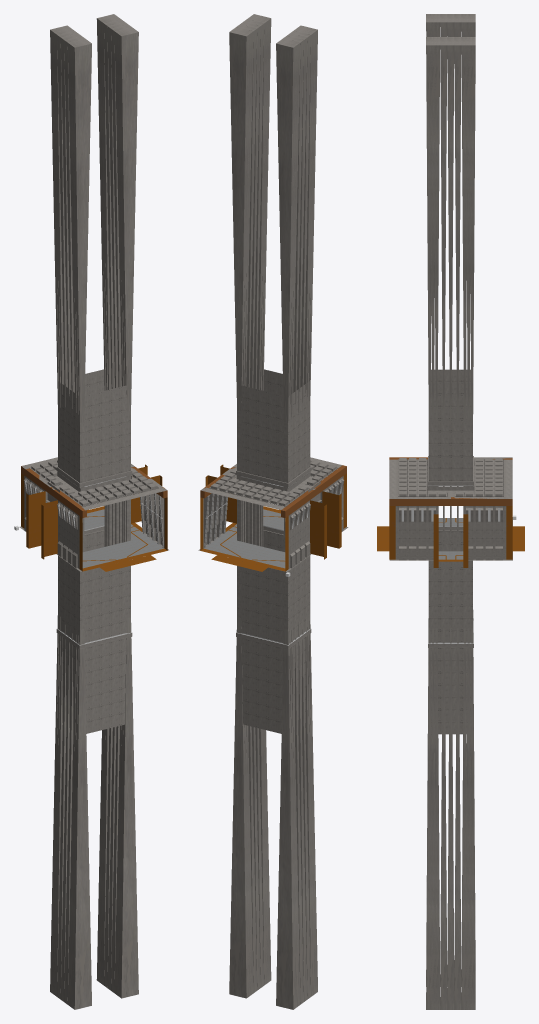
The model's file is Hall.fbx.
3 renders of one model, left to right at view 1: azimuth 30°, elevation 25°; view 2: azimuth 150°, elevation 25°; view 3: azimuth 270°, elevation 25°, orthographic.
Visible parts, largest first — view 1: Colomns.012|Cube.008|Dupli|, Colomns.025|Cube.008|Dupli|, Стены в дыре инс.001|Cube.049|Dupli|, Cube.049, Стены в дыре инс|Cube.049|Dupli|, Colomns.006|Cube.008|Dupli|, Colomns.008|Cube.008|Dupli|, Colomns.004|Cube.008|Dupli|, Colomns.002|Cube.008|Dupli|, Colomns.019|Cube.008|Dupli|, Colomns.017|Cube.008|Dupli|, Colomns.021|Cube.008|Dupli| (+20 smaller); view 2: Colomns|Cube.008|Dupli|, Colomns.013|Cube.008|Dupli|, Стены в дыре инс.001|Cube.051|Dupli|2, Стены в дыре инс|Cube.051|Dupli|2, Cube.051, Colomns.006|Cube.008|Dupli|, Colomns.008|Cube.008|Dupli|, Colomns.004|Cube.008|Dupli|, Colomns.021|Cube.008|Dupli|, Colomns.019|Cube.008|Dupli|, Colomns.017|Cube.008|Dupli|, Colomns.010|Cube.008|Dupli| (+21 smaller); view 3: Colomns.017|Cube.008|Dupli|, Colomns.019|Cube.008|Dupli|, Colomns.021|Cube.008|Dupli|, Colomns.007|Cube.008|Dupli|, Стены в дыре инс.001|Cube.051|Dupli|2, Colomns.003|Cube.008|Dupli|, Colomns.015|Cube.008|Dupli|, Cube.051, Colomns.013|Cube.008|Dupli|, Colomns.025|Cube.008|Dupli|, Colomns.023|Cube.008|Dupli|, Стены в дыре инс|Cube.051|Dupli|2 (+13 smaller).
Boxes of the visible parts, <box> form: Colomns.012|Cube.008|Dupli|: <box>71,41,91,1009</box>; Colomns.025|Cube.008|Dupli|: <box>118,30,138,998</box>; Стены в дыре инс.001|Cube.049|Dupli|: <box>56,381,132,487</box>; Cube.049: <box>58,556,130,643</box>; Стены в дыре инс|Cube.049|Dupli|: <box>56,629,132,733</box>; Colomns.006|Cube.008|Dupli|: <box>60,33,81,1001</box>; Colomns.008|Cube.008|Dupli|: <box>64,36,84,1004</box>; Colomns.004|Cube.008|Dupli|: <box>57,30,77,999</box>; Colomns.002|Cube.008|Dupli|: <box>53,28,73,996</box>; Colomns.019|Cube.008|Dupli|: <box>107,22,127,990</box>; Colomns.017|Cube.008|Dupli|: <box>104,19,124,987</box>; Colomns.021|Cube.008|Dupli|: <box>111,24,131,992</box>; Colomns|Cube.008|Dupli|: <box>276,41,296,1009</box>; Colomns.013|Cube.008|Dupli|: <box>229,29,249,998</box>; Стены в дыре инс.001|Cube.051|Dupli|2: <box>236,385,288,487</box>; Стены в дыре инс|Cube.051|Dupli|2: <box>236,633,288,733</box>; Cube.051: <box>237,566,287,642</box>; Colomns.006|Cube.008|Dupli|: <box>287,33,307,1001</box>; Colomns.008|Cube.008|Dupli|: <box>290,30,310,998</box>; Colomns.004|Cube.008|Dupli|: <box>283,36,303,1004</box>; Colomns.021|Cube.008|Dupli|: <box>243,19,264,987</box>; Colomns.019|Cube.008|Dupli|: <box>240,22,260,990</box>; Colomns.017|Cube.008|Dupli|: <box>236,24,257,992</box>; Colomns.010|Cube.008|Dupli|: <box>294,29,314,996</box>; Colomns.017|Cube.008|Dupli|: <box>454,37,461,1009</box>; Colomns.019|Cube.008|Dupli|: <box>447,37,454,1009</box>; Colomns.021|Cube.008|Dupli|: <box>440,37,447,1009</box>; Colomns.007|Cube.008|Dupli|: <box>465,37,472,1009</box>; Стены в дыре инс.001|Cube.051|Dupli|2: <box>428,394,473,485</box>; Colomns.003|Cube.008|Dupli|: <box>429,37,436,1009</box>; Colomns.015|Cube.008|Dupli|: <box>461,37,468,1009</box>; Cube.051: <box>428,560,472,642</box>; Colomns.013|Cube.008|Dupli|: <box>468,37,475,1009</box>; Colomns.025|Cube.008|Dupli|: <box>426,37,432,1009</box>; Colomns.023|Cube.008|Dupli|: <box>433,37,440,1009</box>; Стены в дыре инс|Cube.051|Dupli|2: <box>428,644,473,734</box>.
Size of the model in its own units: 5588 by 43229 by 6011.
